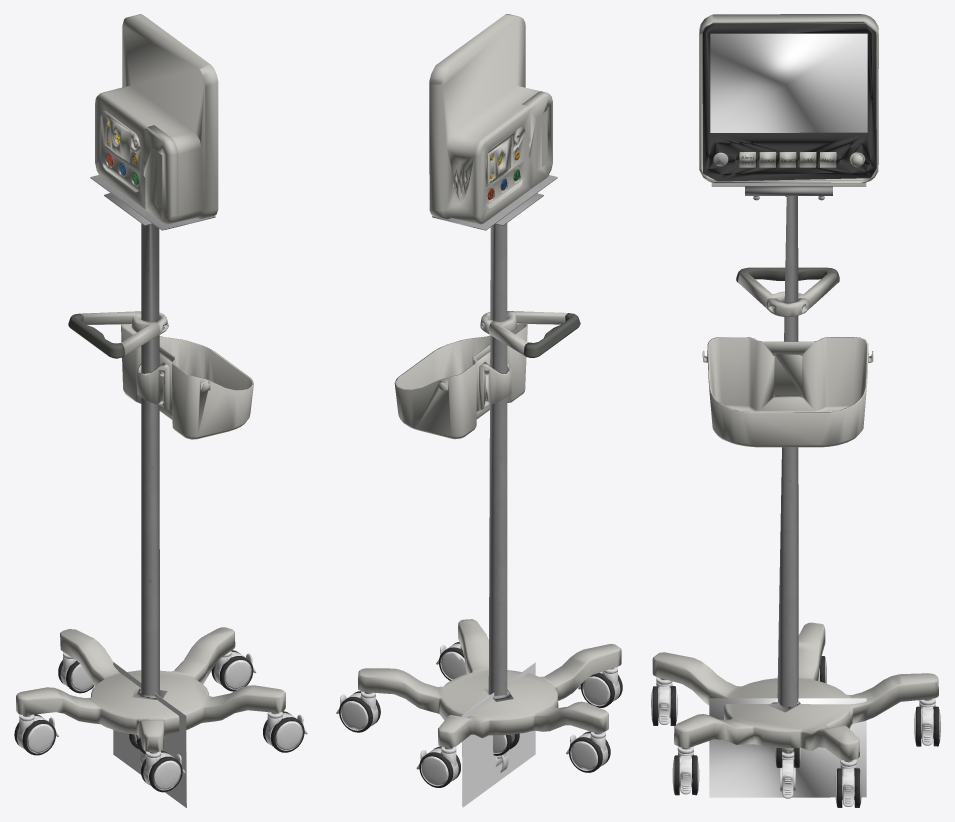
The model's file is monitor_patient_a01.glb.
The picture shows the model from 3 angles, left to right: view 1: azimuth 30°, elevation 25°; view 2: azimuth 150°, elevation 25°; view 3: azimuth 270°, elevation 25°; orthographic projection. The views are drawn at different scales.
Visible parts, largest first — view 1: base_01_mesh_00, screen_01_mesh_00, tire_03_mesh_00, tire_02_mesh_00, tire_04_mesh_00, tire_05_mesh_00, tire_01_mesh_00; view 2: base_01_mesh_00, screen_01_mesh_00, tire_02_mesh_00, tire_01_mesh_00, tire_05_mesh_00, tire_03_mesh_00, tire_04_mesh_00; view 3: base_01_mesh_00, screen_01_mesh_00 (×2), tireBase_03_mesh_00 (×2), tireBase_04_mesh_00, tireBase_05_mesh_00, tireBase_01_mesh_00, tire_01_mesh_00, tire_03_mesh_00, tire_05_mesh_00, tire_04_mesh_00.
Boxes of the visible parts, <box> form: base_01_mesh_00: <box>16,14,285,751</box>; screen_01_mesh_00: <box>113,662,186,807</box>; tire_03_mesh_00: <box>141,750,182,792</box>; tire_02_mesh_00: <box>14,714,56,755</box>; tire_04_mesh_00: <box>263,711,304,752</box>; tire_05_mesh_00: <box>211,650,253,691</box>; tire_01_mesh_00: <box>58,660,93,693</box>; base_01_mesh_00: <box>358,14,621,747</box>; screen_01_mesh_00: <box>462,662,535,807</box>; tire_02_mesh_00: <box>569,731,610,772</box>; tire_01_mesh_00: <box>419,746,460,787</box>; tire_05_mesh_00: <box>339,691,380,732</box>; tire_03_mesh_00: <box>581,673,622,707</box>; tire_04_mesh_00: <box>439,642,466,680</box>; base_01_mesh_00: <box>652,14,938,760</box>; screen_01_mesh_00 (×2): <box>709,33,867,797</box>; tireBase_03_mesh_00 (×2): <box>656,677,795,798</box>; tireBase_04_mesh_00: <box>677,746,693,794</box>; tireBase_05_mesh_00: <box>840,759,856,806</box>; tireBase_01_mesh_00: <box>919,698,935,745</box>; tire_01_mesh_00: <box>914,706,940,746</box>; tire_03_mesh_00: <box>651,686,677,725</box>; tire_05_mesh_00: <box>835,768,861,807</box>; tire_04_mesh_00: <box>672,755,699,795</box>.
Size of the model in its own units: 0.5766 by 1.6 by 0.5295.
Materials: 13 (10 with a texture image).
